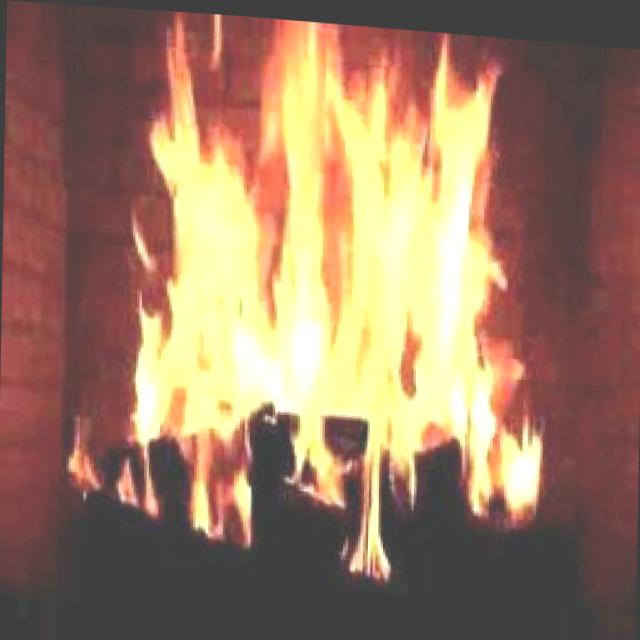Fire: (148, 57, 536, 509)
